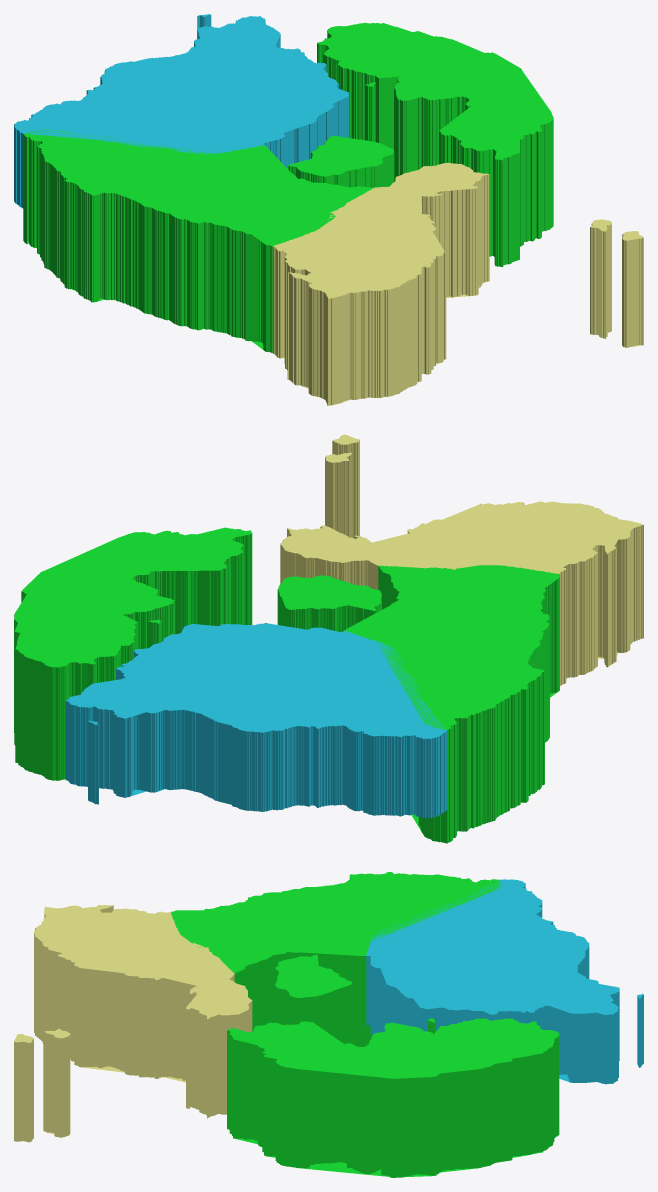
File: TerrainBiomeTriggers.fbx
3 renders of one model, top to bottom at view 1: azimuth 30°, elevation 25°; view 2: azimuth 150°, elevation 25°; view 3: azimuth 270°, elevation 25°, orthographic. The views are drawn at different scales.
Visible parts, largest first — view 1: GreenGrassTrigger, DesertGrassTrigger, TundraGrassTrigger; view 2: GreenGrassTrigger, TundraGrassTrigger, DesertGrassTrigger; view 3: GreenGrassTrigger, DesertGrassTrigger, TundraGrassTrigger.
Part boxes in pixels (x1,y1,x2,y2): GreenGrassTrigger: (23,23,553,352); DesertGrassTrigger: (272,162,643,405); TundraGrassTrigger: (14,14,349,208); GreenGrassTrigger: (14,527,559,843); TundraGrassTrigger: (65,623,447,818); DesertGrassTrigger: (280,434,643,686); GreenGrassTrigger: (171,872,559,1177); DesertGrassTrigger: (14,905,252,1142); TundraGrassTrigger: (366,879,643,1084).
Size of the model in its own units: 58300 by 13057 by 75100.
